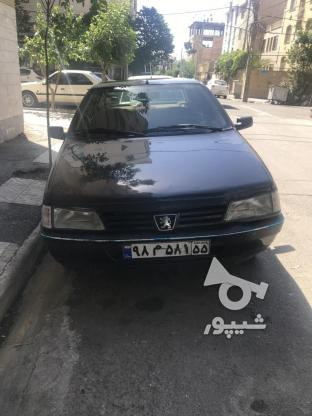car: (120, 240, 208, 259)
